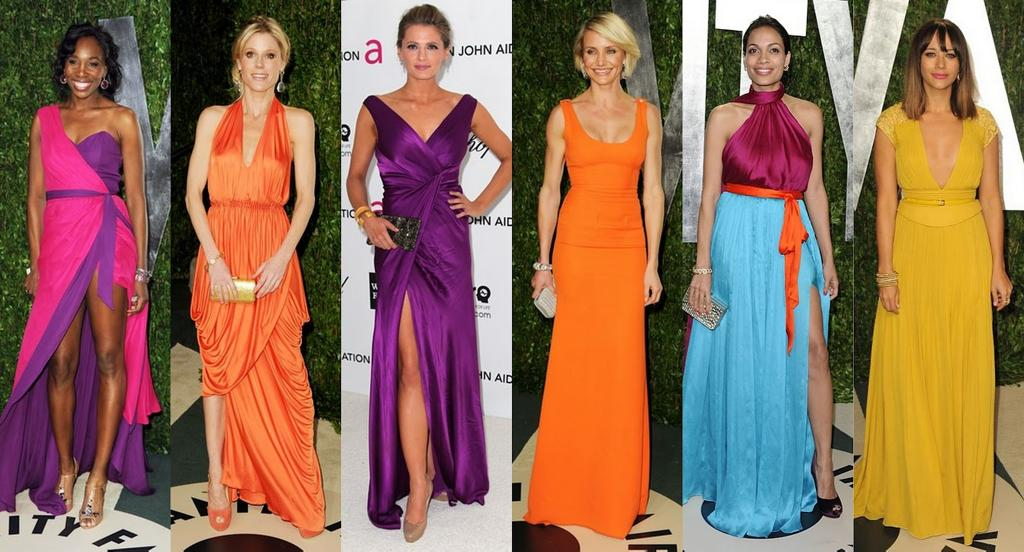face: (63, 42, 104, 97), (401, 28, 442, 79), (583, 33, 624, 83), (241, 39, 280, 91), (920, 37, 959, 88), (745, 35, 785, 84)
